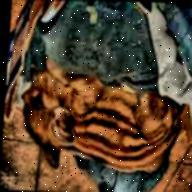boar: (5, 50, 192, 169)
